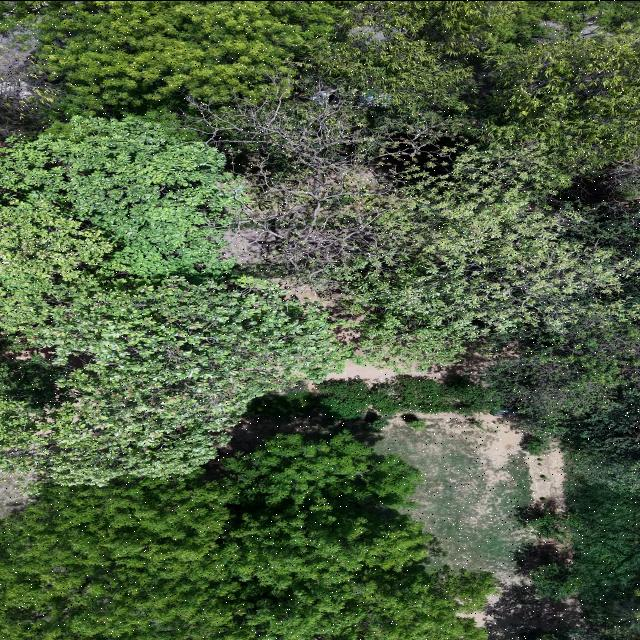DRY_AREA: (375, 413, 578, 639), (376, 414, 578, 639), (375, 414, 532, 584), (0, 473, 34, 517)
VEGETATION_TREE: (0, 1, 639, 639), (3, 1, 639, 365), (202, 4, 639, 365), (0, 116, 347, 483), (208, 97, 625, 366), (0, 432, 495, 639), (250, 146, 627, 366), (1, 276, 343, 483), (484, 273, 639, 639), (1, 116, 242, 321), (1, 1, 347, 132), (29, 1, 343, 108), (373, 414, 549, 592), (469, 34, 639, 192), (484, 318, 639, 491), (484, 271, 639, 434), (483, 319, 639, 434), (531, 481, 639, 639), (224, 383, 388, 450), (567, 484, 639, 630), (562, 383, 639, 494), (317, 375, 500, 418), (510, 1, 639, 42), (247, 385, 326, 422), (529, 562, 583, 599), (520, 508, 580, 541), (533, 626, 615, 639), (521, 434, 552, 455), (405, 418, 425, 430), (539, 497, 547, 502), (539, 474, 546, 478), (536, 457, 542, 460), (537, 462, 541, 465)
